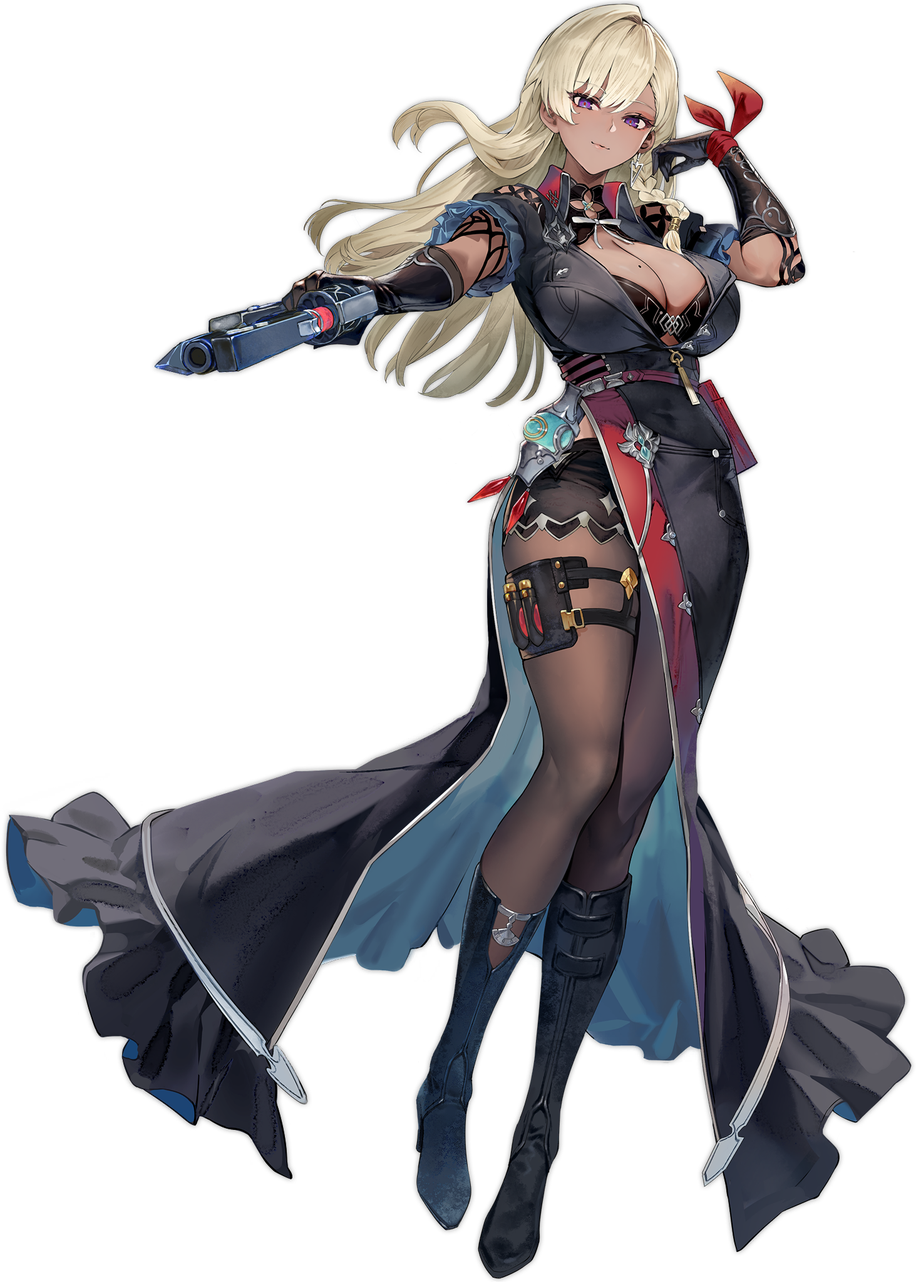person: (52, 2, 913, 1281)
